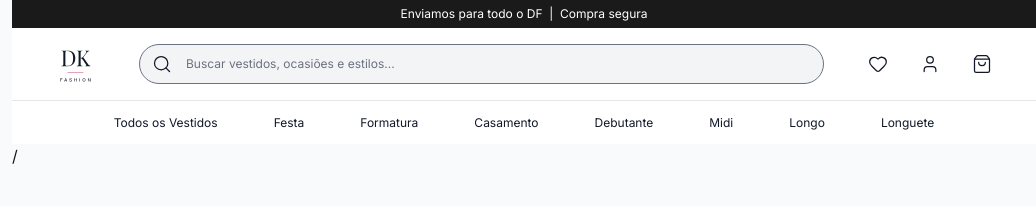
Test: Header › manda visitantes para o login ao abrir favoritos e mostra opções de entrar
Click the button named "Favoritos".
click(878, 64)  # box x1=856 y1=42 x2=900 y2=86
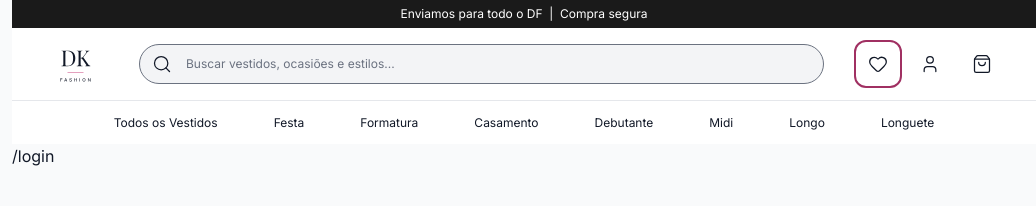
Check: the text with test id "location" reads "/login", box x1=12 y1=146 x2=54 y2=166
Click the button named "Minha conta".
click(930, 64)  # box x1=908 y1=42 x2=952 y2=86
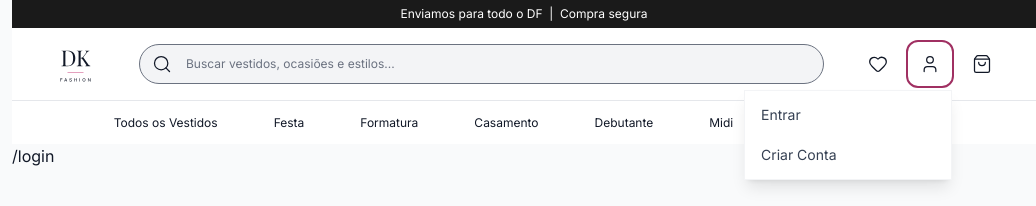
Click the link "Entrar".
click(781, 114)  # box x1=761 y1=106 x2=801 y2=123
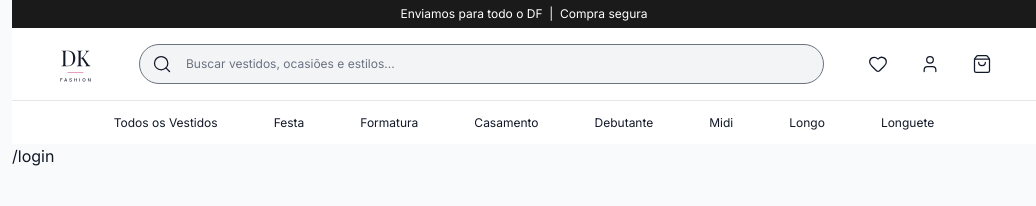
Check: the link "Criar Conta" is gone
